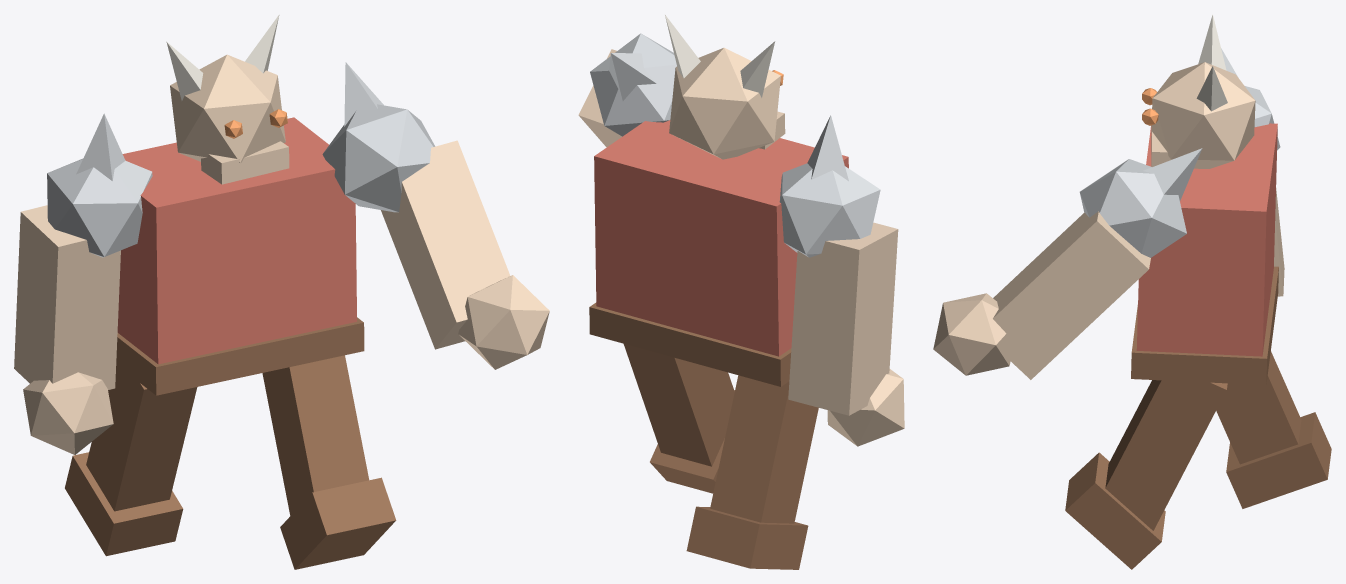
Rendered from npcpose_brute_walk_08.glb.
3 views of the same model, side by side, from view 1: azimuth 30°, elevation 25°; view 2: azimuth 150°, elevation 25°; view 3: azimuth 270°, elevation 25° (orthographic). The views are drawn at different scales.
Parts seen in each view (by area): view 1: npcpose; view 2: npcpose; view 3: npcpose.
Part boxes in pixels (x1=…): npcpose: x1=14, y1=14, x2=549, y2=569; npcpose: x1=578, y1=15, x2=904, y2=569; npcpose: x1=933, y1=14, x2=1331, y2=569.
Size of the model in its own units: 1.43 by 1.86 by 1.38.
